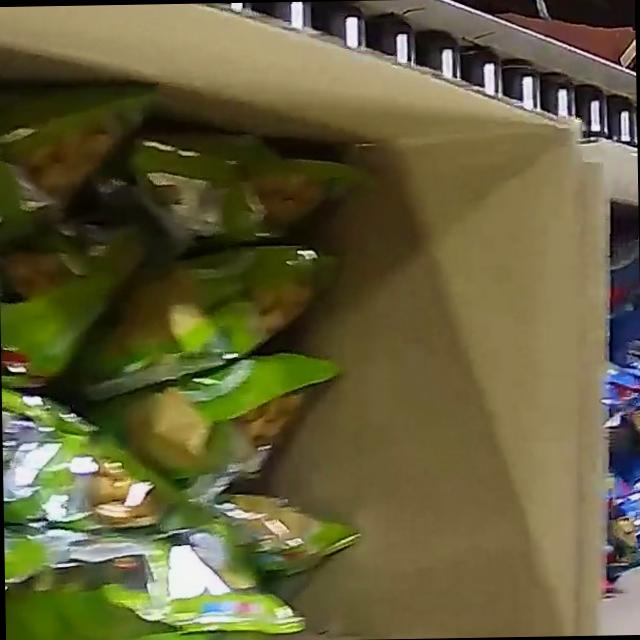paprika: (583, 217, 640, 588)
yogurt: (0, 63, 379, 640)
